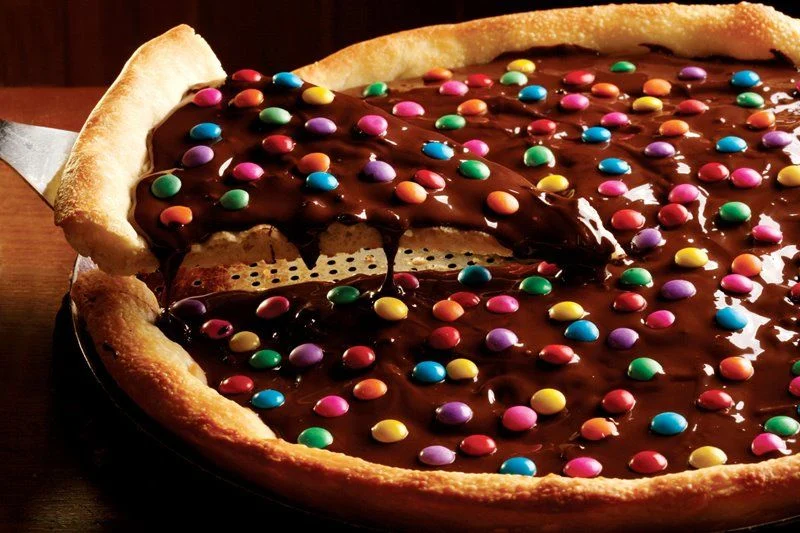Pizza: (53, 1, 800, 533)
